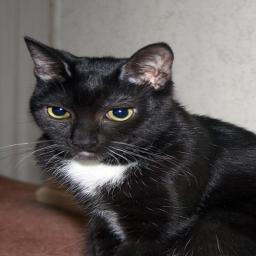catnose: (69, 127, 100, 149)
